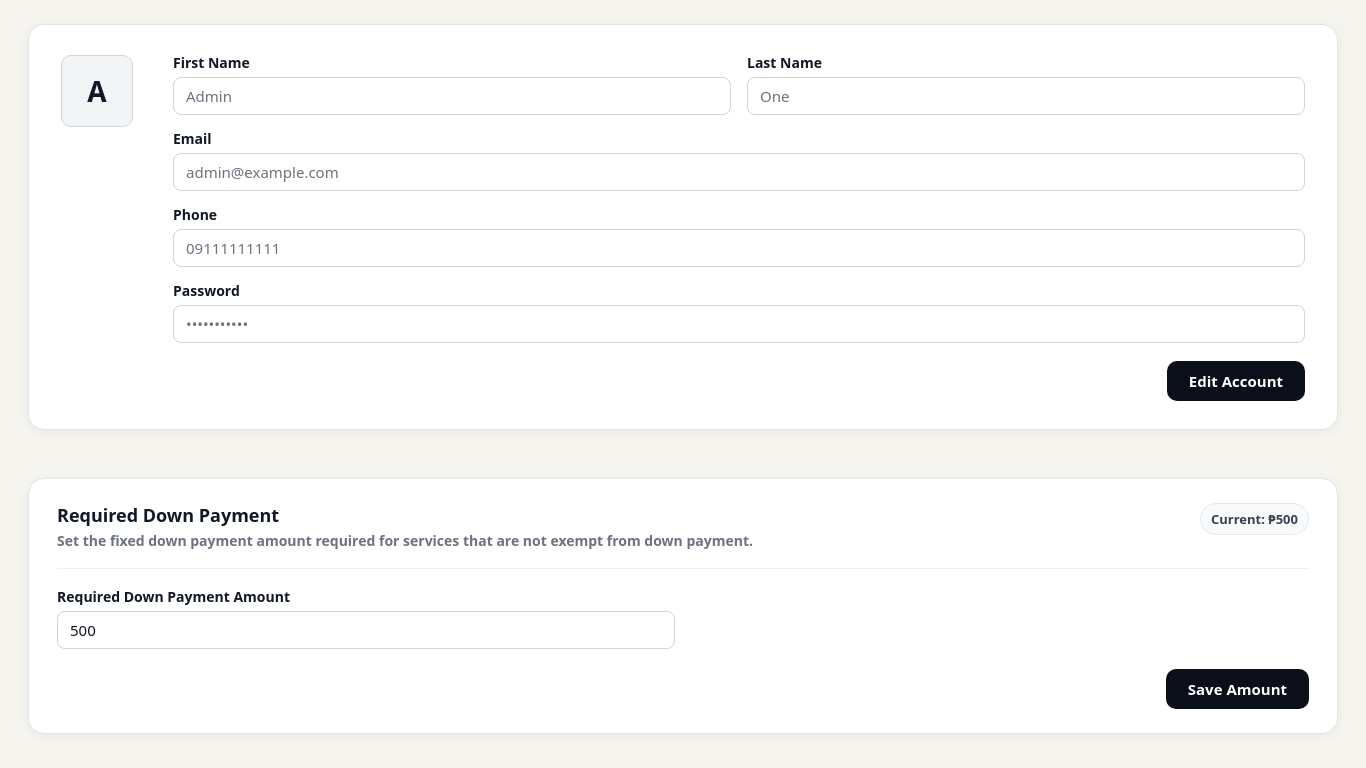
Test case: Admin required down payment validation › valid amount and incorrect Admin Special Password leaves the modal open without updating
Replace the text in the field labelled "Required Down Payment Amount" with "700". click: (366, 630)
box: [57, 611, 675, 649]
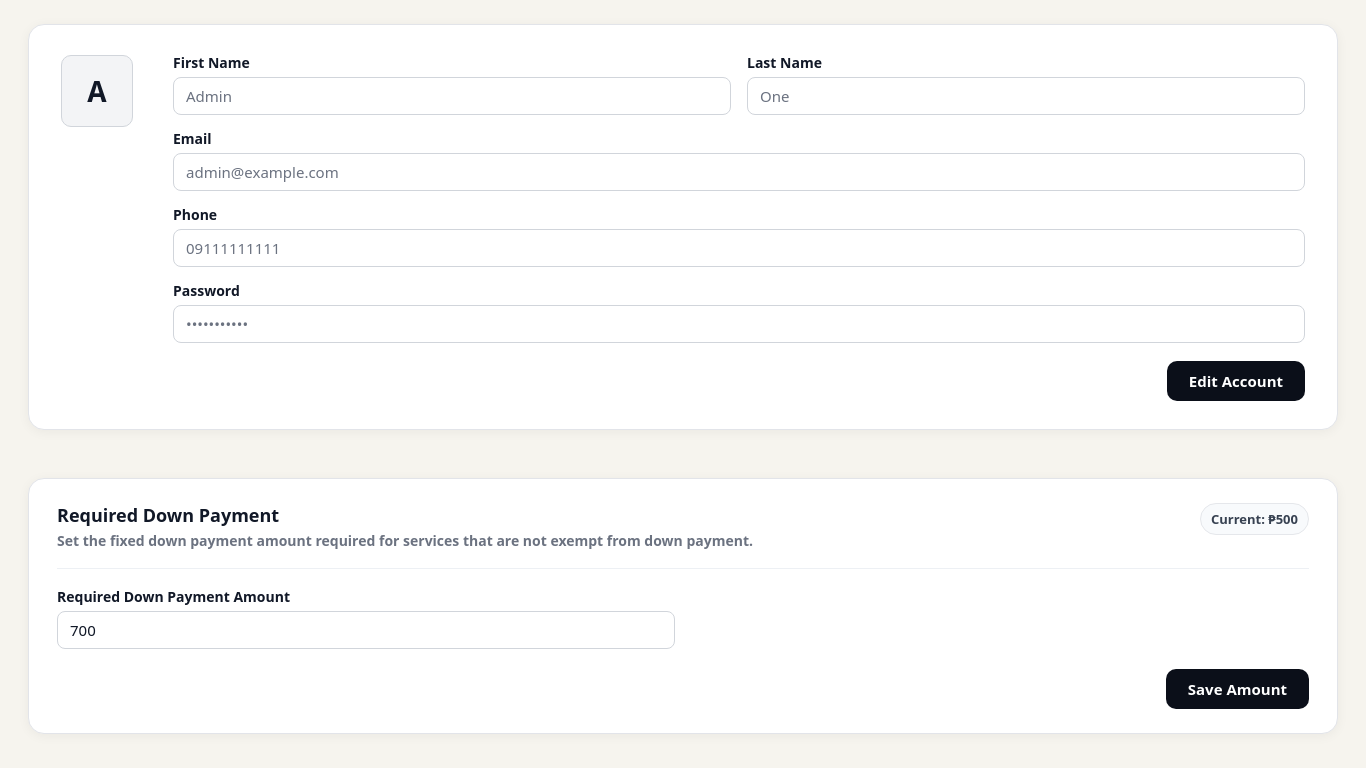
Submit the form "Required Down Payment Amount Save Amount", box [57, 587, 1309, 709]
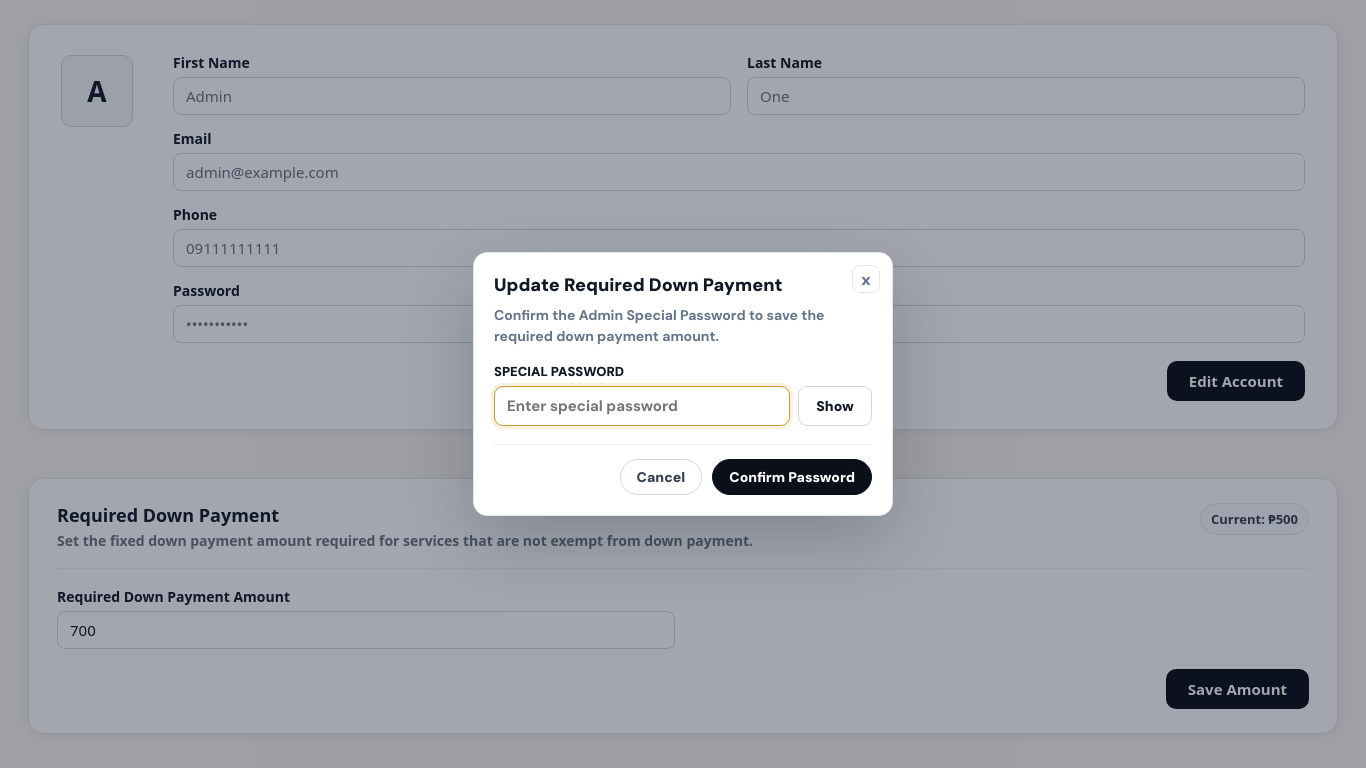
Type "wrong-password" into the password field labelled "Special Password". click: (642, 406)
box: [494, 386, 790, 426]
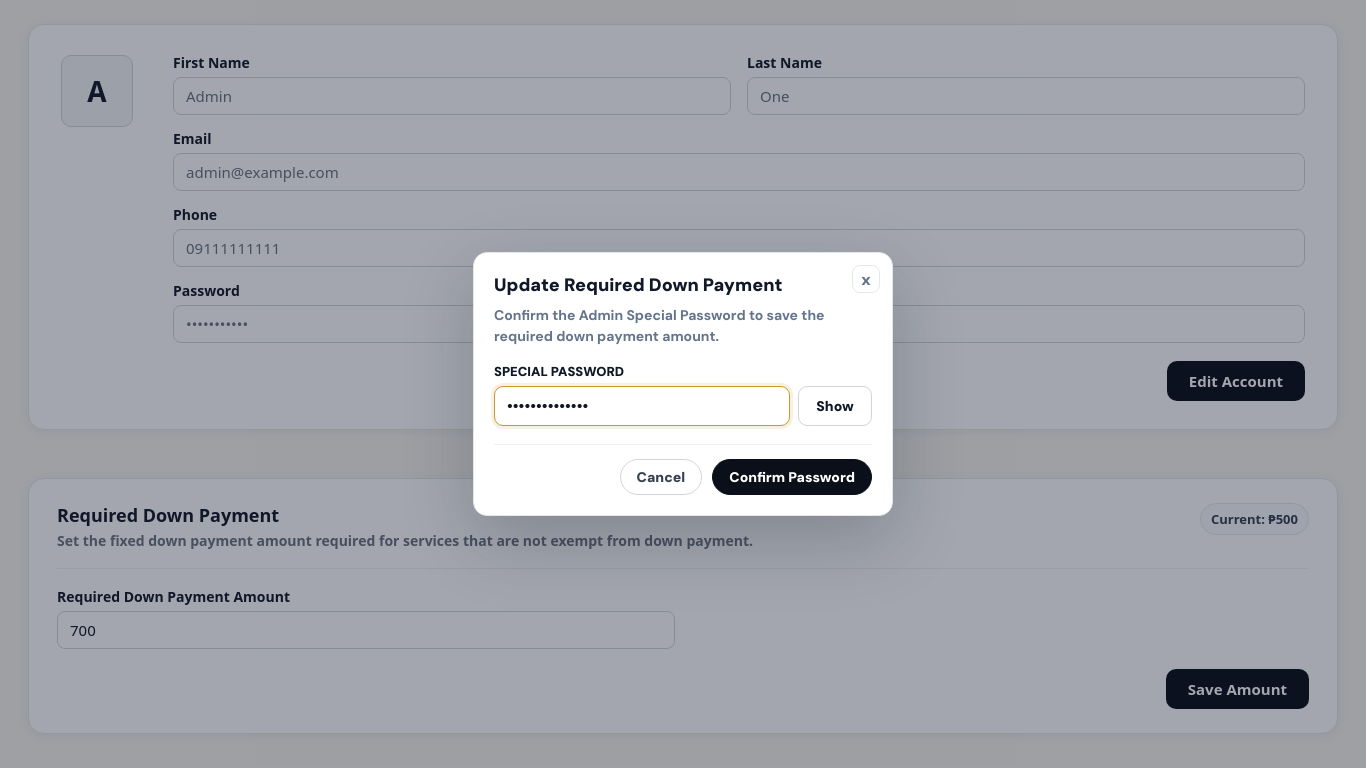
Click the button "Confirm Password". click: (792, 477)
box: [712, 459, 872, 495]
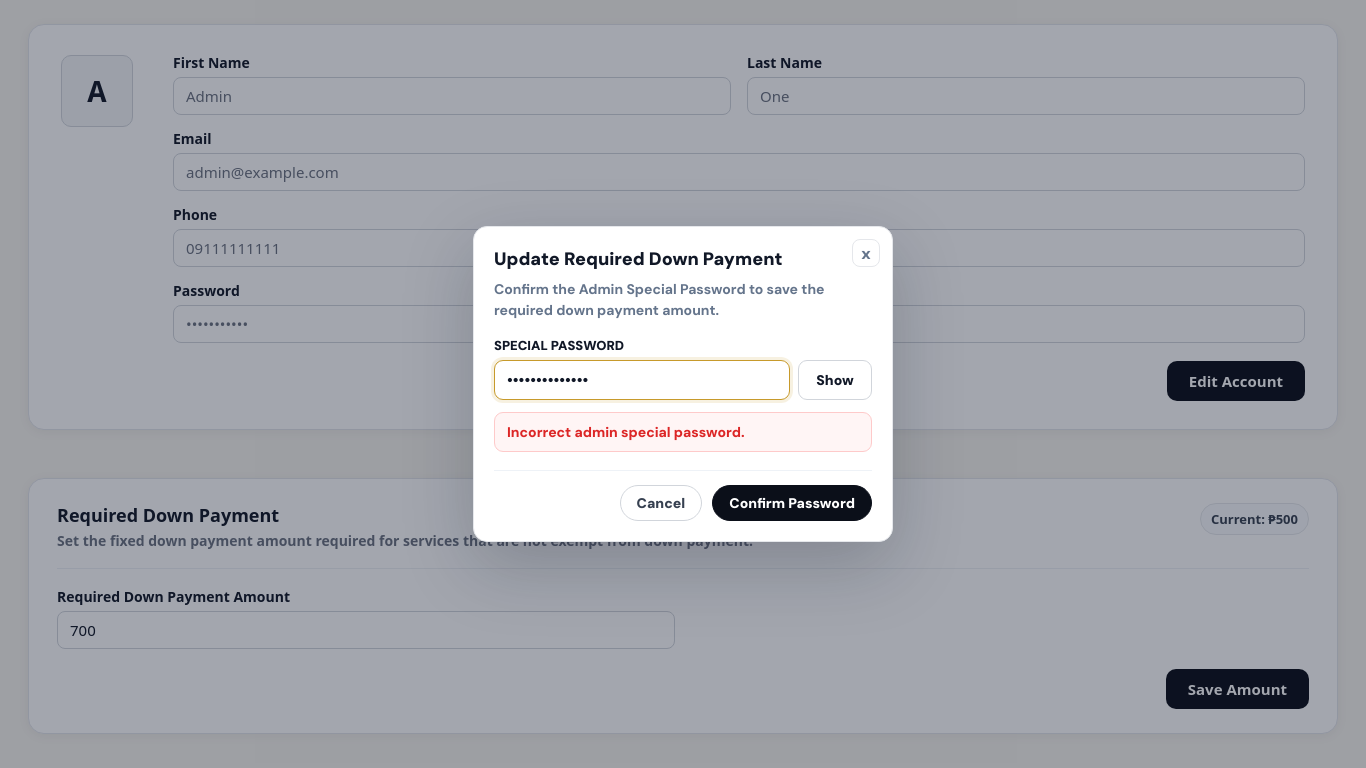
Expected: the dialog "Update Required Down Payment" is shown, [473, 226, 893, 542]
Expected: the text "Incorrect admin special password." is shown, [494, 412, 872, 452]
